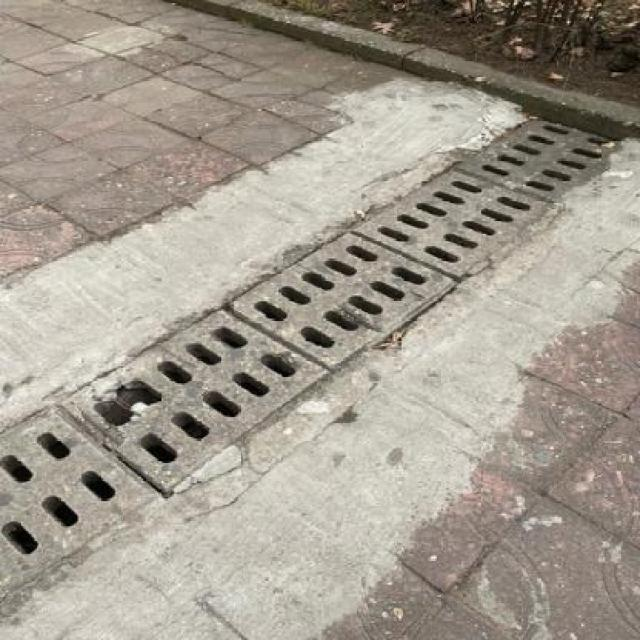Drain Hole: (59, 247, 516, 469)
